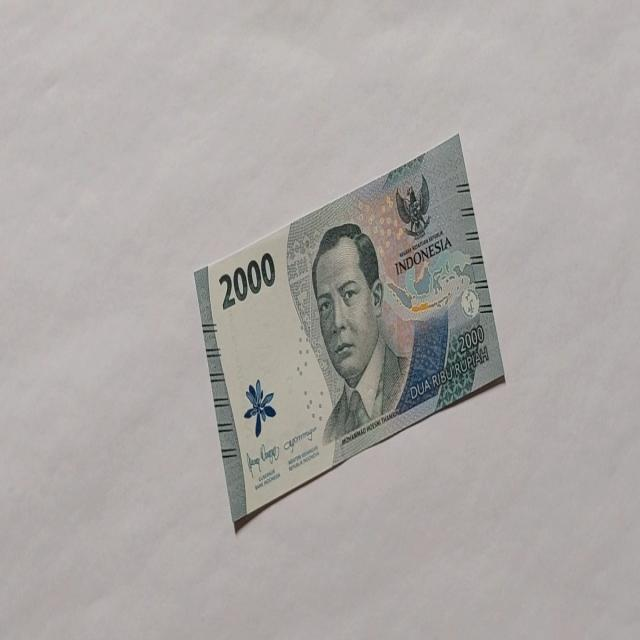dua ribu rupiah: (192, 132, 506, 530), (310, 222, 410, 446)
